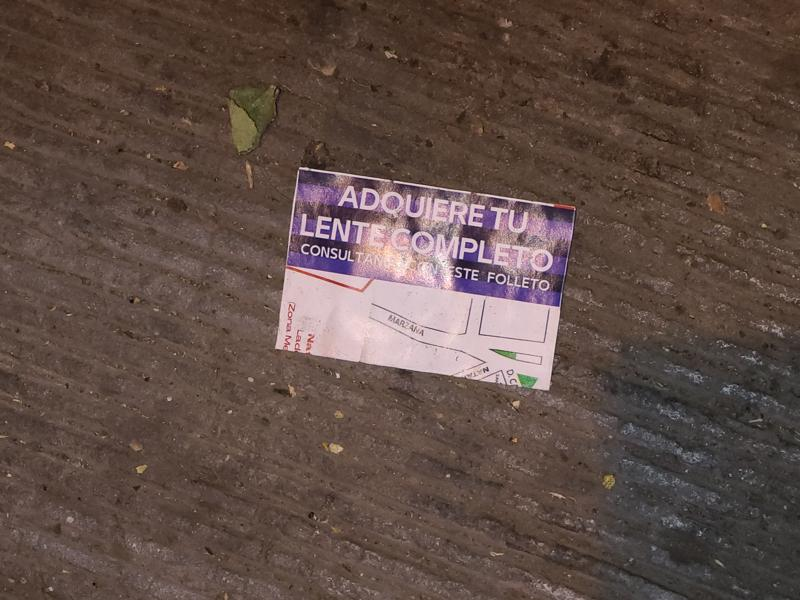papel: (275, 167, 578, 392)
